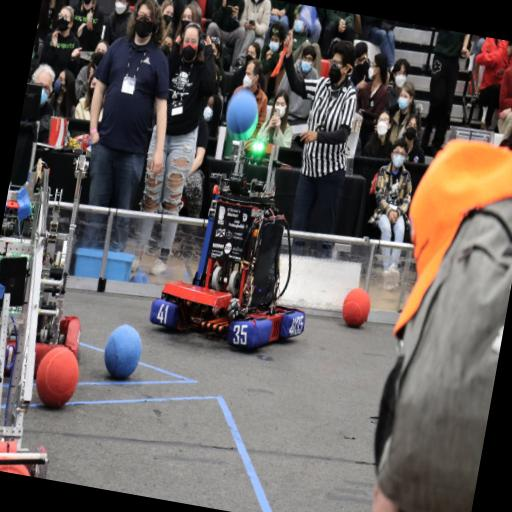robot: (148, 127, 336, 360), (0, 128, 120, 374), (0, 180, 94, 478)
